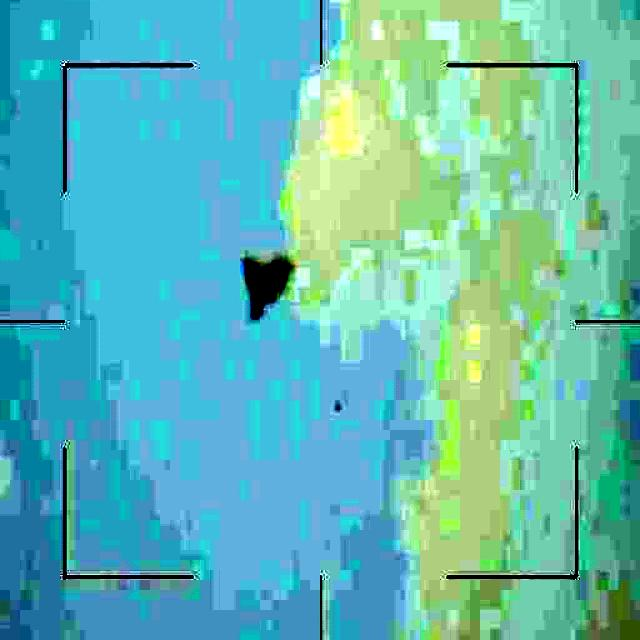bird: (241, 246, 292, 329)
